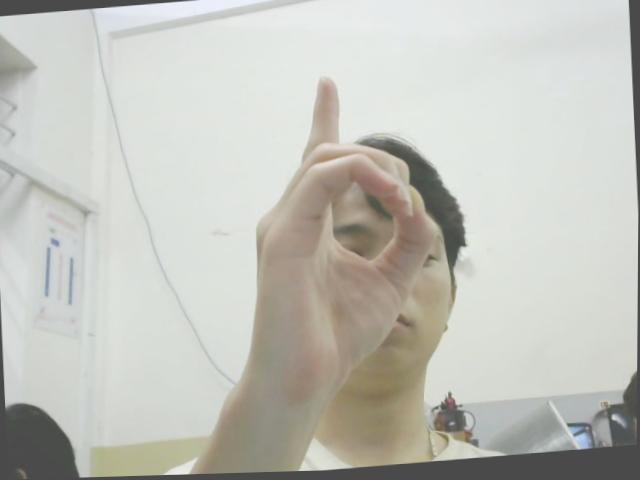D: (240, 65, 445, 394)
